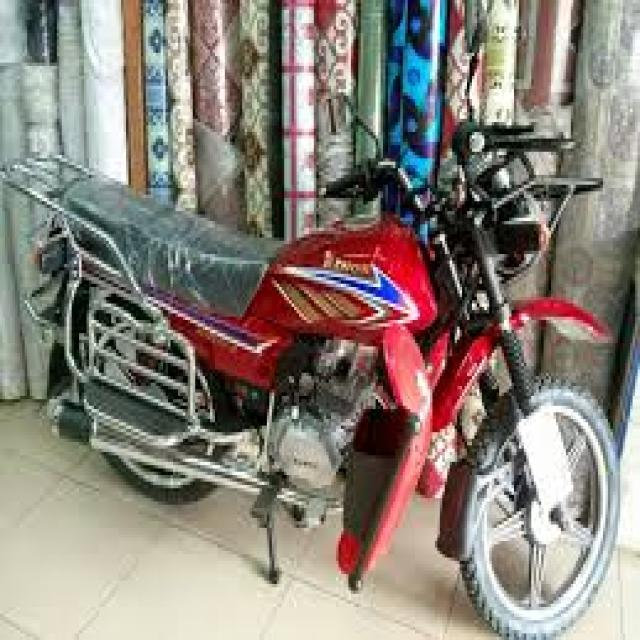bodaboda: (0, 79, 638, 640)
